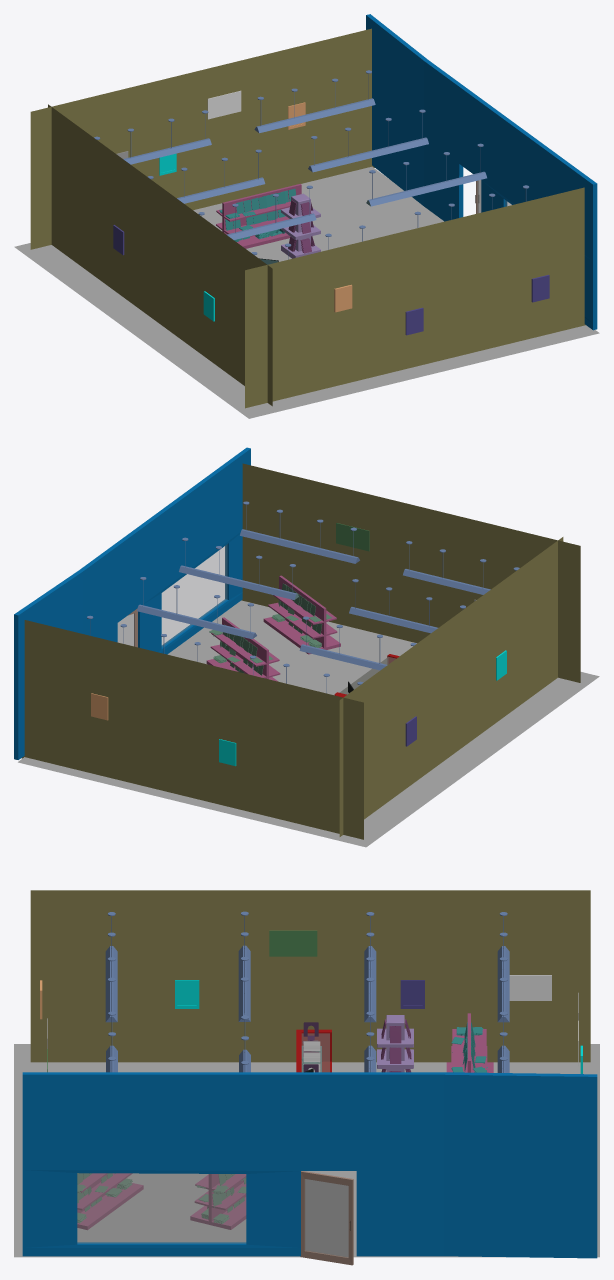
Rendered from HUB_Finished.fbx.
The picture shows the model from 3 angles, top to bottom: view 1: azimuth 30°, elevation 25°; view 2: azimuth 150°, elevation 25°; view 3: azimuth 270°, elevation 25°; orthographic projection. The views are drawn at different scales.
Visible parts, largest first — view 1: pPlane1, pPlane2, pPlane3, Hub_FrontWallScene:pCube16, pPlane4, pCube147, pCube146, pCylinder22, pCylinder18, pCylinder17, Hub_Shelves2ForScene:pCube9, Hub_Lights:pCylinder16 (+4 smaller); view 2: pPlane2, pPlane1, pPlane3, Hub_FrontWallScene:pCube16, pPlane4, pCube9, Hub_ShelvesForScene:pCube9, pCylinder19, pCylinder17, pCylinder18, pCube145, pCylinder20 (+5 smaller); view 3: Hub_FrontWallScene:pCube16, pPlane3, pPlane4, Hub_FrontWallScene:pCylinder3, pCube9, Hub_ShelvesForScene:pCube9, pCube150, pCube156, pCube149, pCube157, polySurface1, pCylinder16 (+9 smaller).
Boxes of the visible parts, x1,y1,x2,y2 form: pPlane1: [245, 187, 585, 408]; pPlane2: [30, 28, 374, 249]; pPlane3: [48, 104, 272, 406]; Hub_FrontWallScene:pCube16: [366, 14, 597, 330]; pPlane4: [14, 166, 599, 418]; pCube147: [216, 184, 301, 248]; pCube146: [219, 188, 295, 241]; pCylinder22: [254, 70, 375, 133]; pCylinder18: [366, 143, 486, 206]; pCylinder17: [308, 109, 428, 172]; Hub_Shelves2ForScene:pCube9: [281, 193, 320, 258]; Hub_Lights:pCylinder16: [198, 185, 316, 239]; pPlane2: [21, 620, 363, 839]; pPlane1: [241, 463, 580, 682]; pPlane3: [339, 537, 563, 836]; Hub_FrontWallScene:pCube16: [14, 447, 250, 759]; pPlane4: [18, 600, 599, 847]; pCube9: [263, 575, 340, 654]; Hub_ShelvesForScene:pCube9: [206, 617, 280, 681]; pCylinder19: [240, 501, 359, 563]; pCylinder17: [137, 577, 256, 639]; pCylinder18: [179, 537, 298, 600]; pCube145: [272, 583, 331, 647]; pCylinder20: [403, 541, 519, 594]; Hub_FrontWallScene:pCube16: [22, 1072, 597, 1258]; pPlane3: [30, 890, 590, 1062]; pPlane4: [14, 1044, 599, 1257]; Hub_FrontWallScene:pCylinder3: [300, 1171, 353, 1265]; pCube9: [77, 1173, 143, 1229]; Hub_ShelvesForScene:pCube9: [190, 1174, 246, 1229]; pCube150: [377, 1015, 413, 1072]; pCube156: [269, 930, 317, 956]; pCube149: [446, 1013, 493, 1072]; pCube157: [509, 975, 551, 1000]; polySurface1: [296, 1029, 331, 1072]; pCylinder16: [364, 912, 376, 1022].
Bounding box in the file's own units: 495 × 193 × 552.
